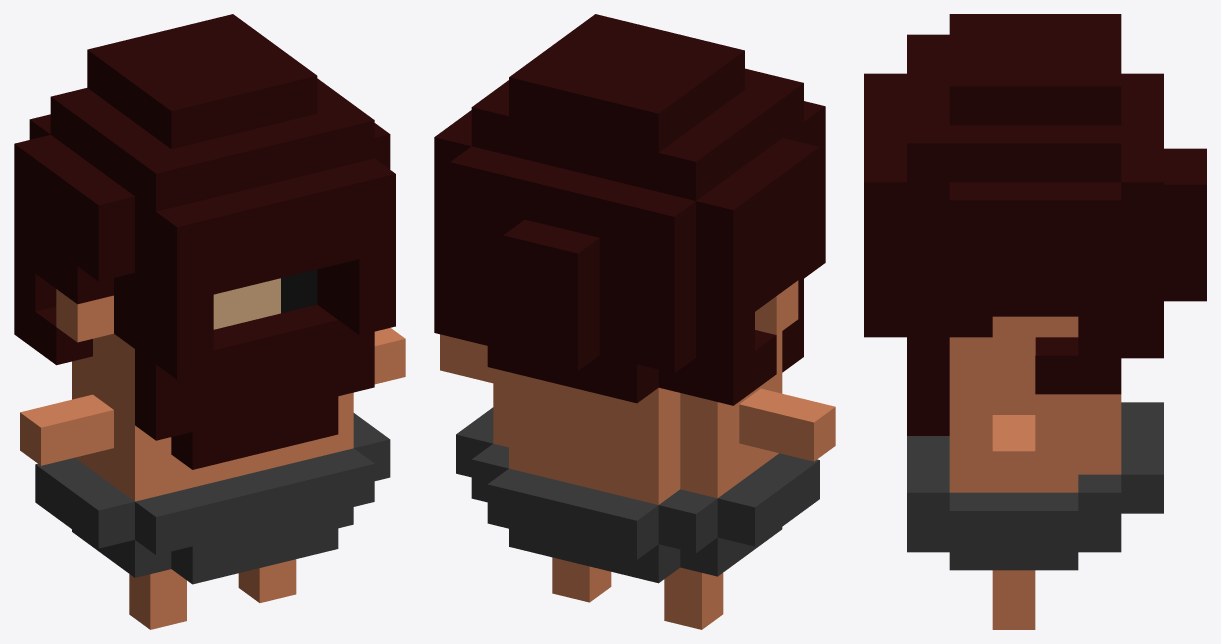
Rendered from player.fbx.
3 views of the same model, side by side, from view 1: azimuth 30°, elevation 25°; view 2: azimuth 150°, elevation 25°; view 3: azimuth 270°, elevation 25° (orthographic). The views are drawn at different scales.
Parts seen in each view (by area): view 1: chr_sword; view 2: chr_sword; view 3: chr_sword.
Part boxes in pixels (x1,y1,x2,y2): chr_sword: (14, 14, 405, 629); chr_sword: (434, 14, 835, 629); chr_sword: (864, 14, 1206, 629).
Bounding box in the file's own units: 100 × 140 × 80.
